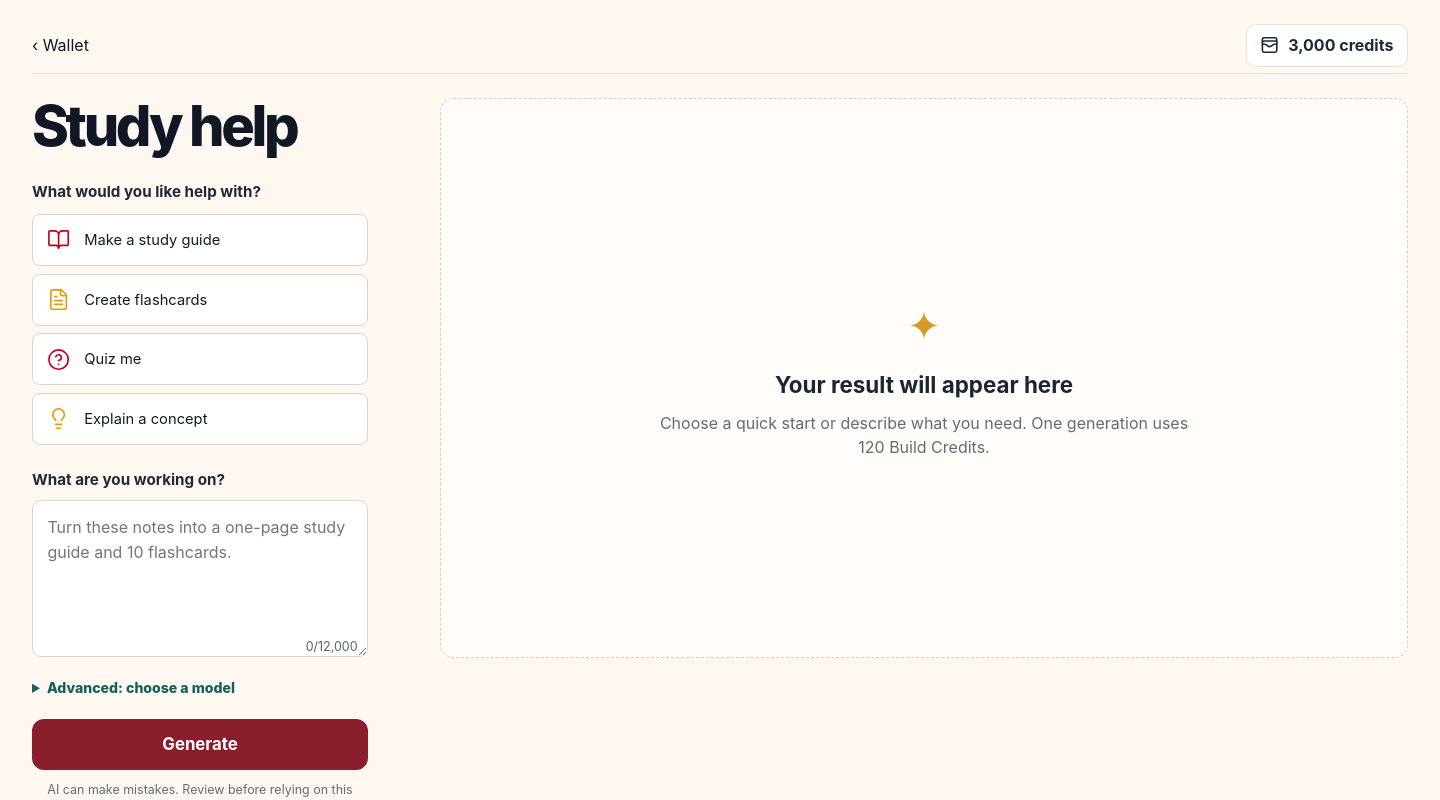
Test: TaskShell › maps a paused save response to localized pause guidance in en
Click the button "Make a study guide". click: (200, 240)
box: [32,214,368,266]
(page scrolled)
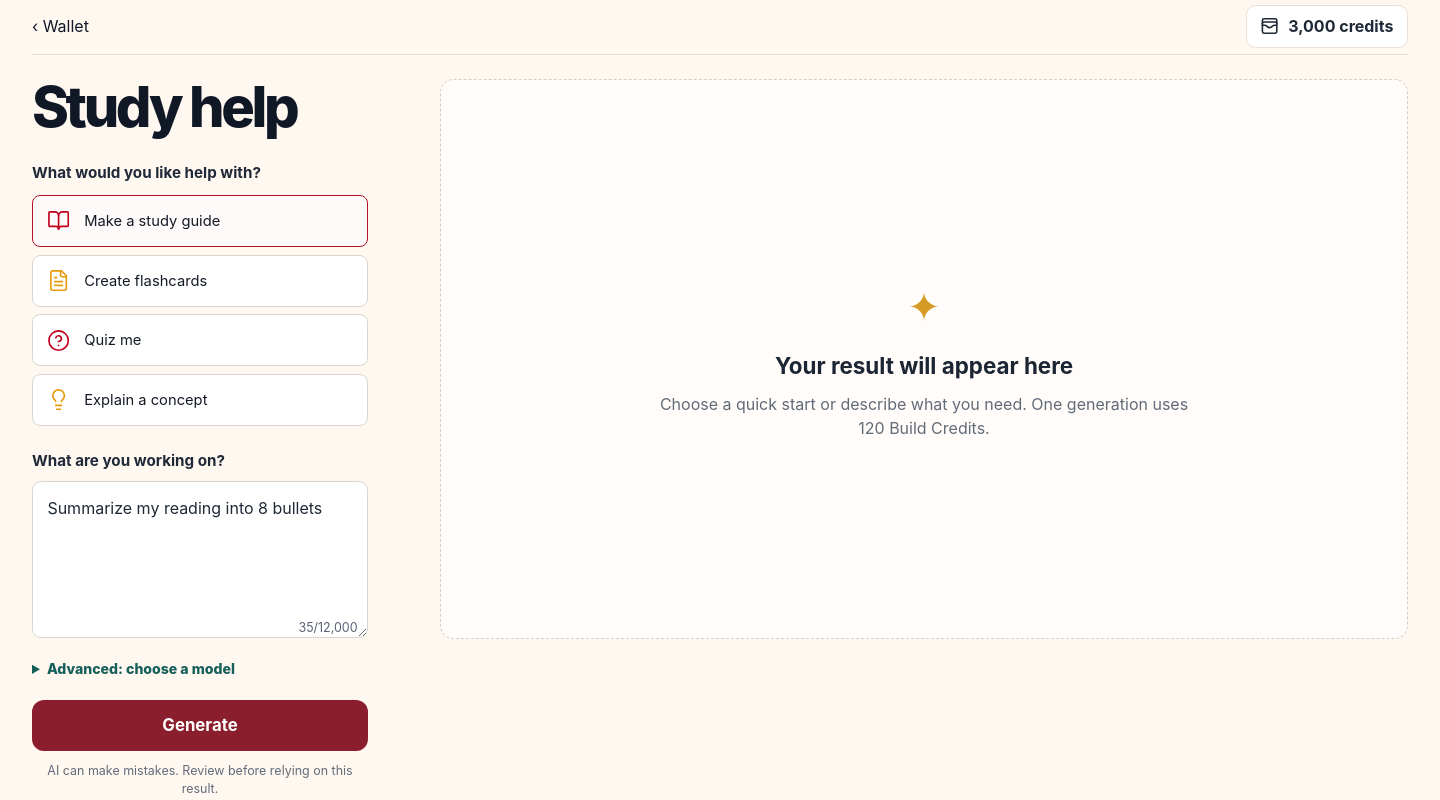
Submit the form
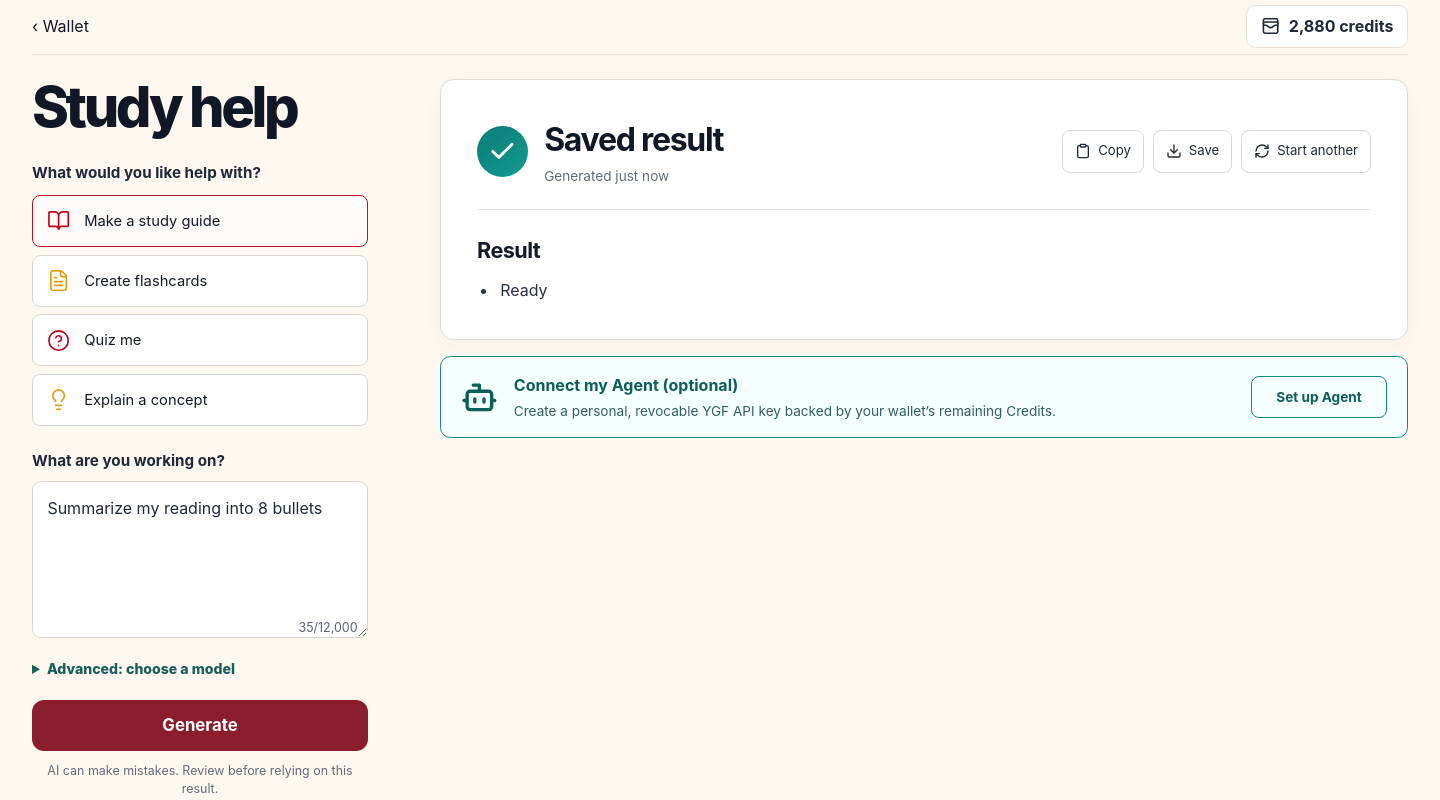
Expected: the button "Save" is shown
Click the button "Save". click: (1192, 151)
box: [1153,130,1232,173]
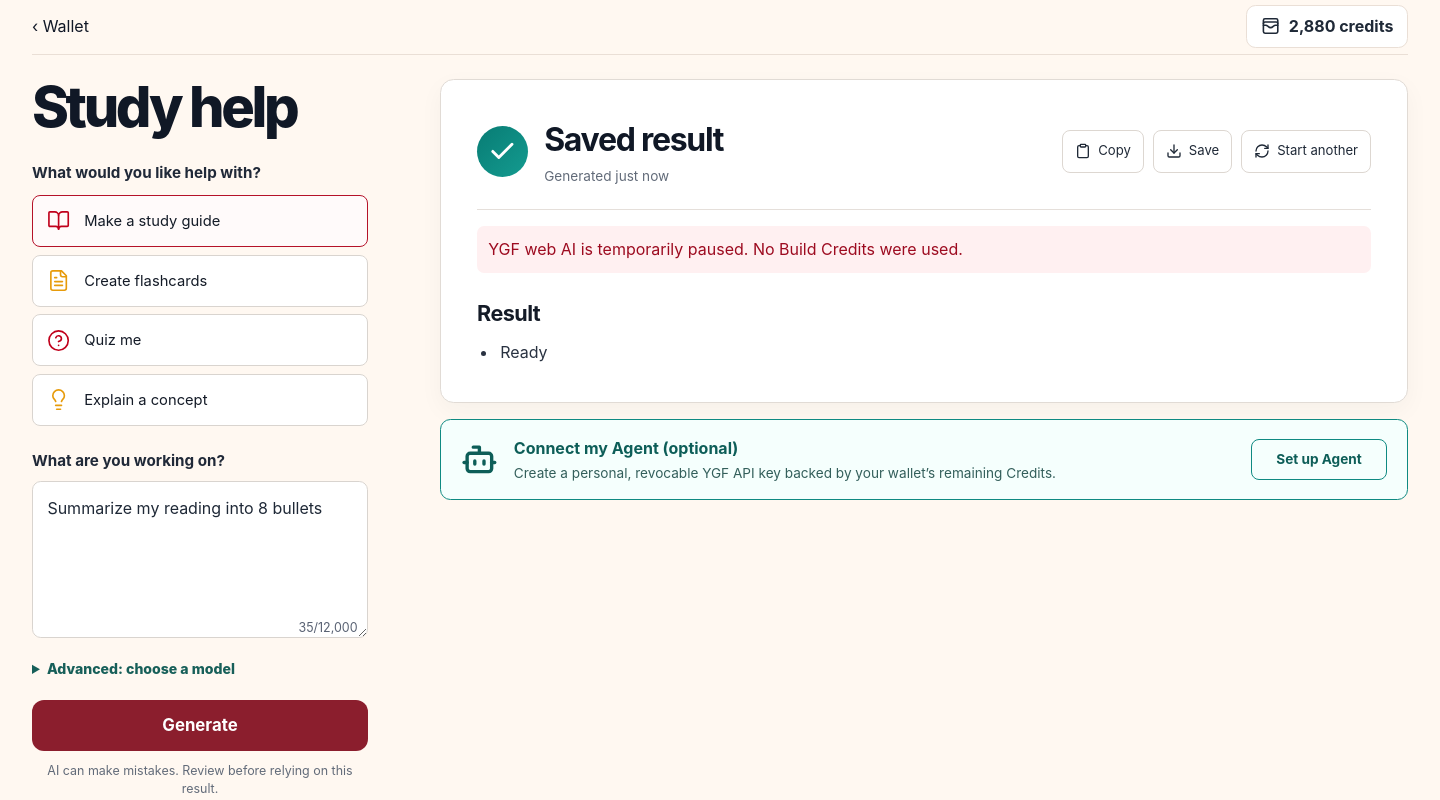
Expected: the text "YGF web AI is temporarily paused. No Build Credits were used." is shown, [477,226,1371,273]
